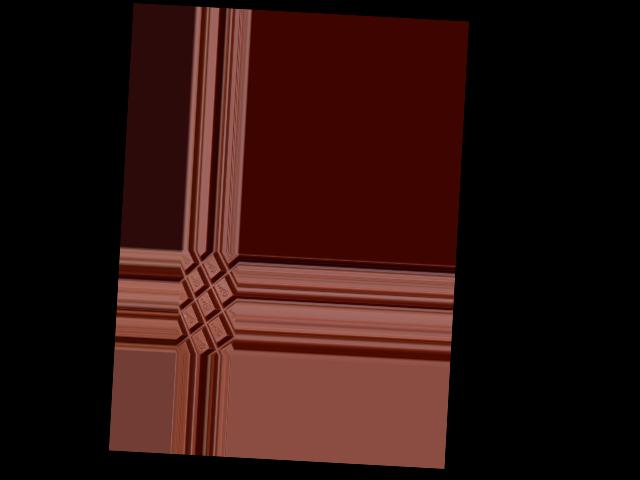chocolate: (177, 252, 239, 356)
